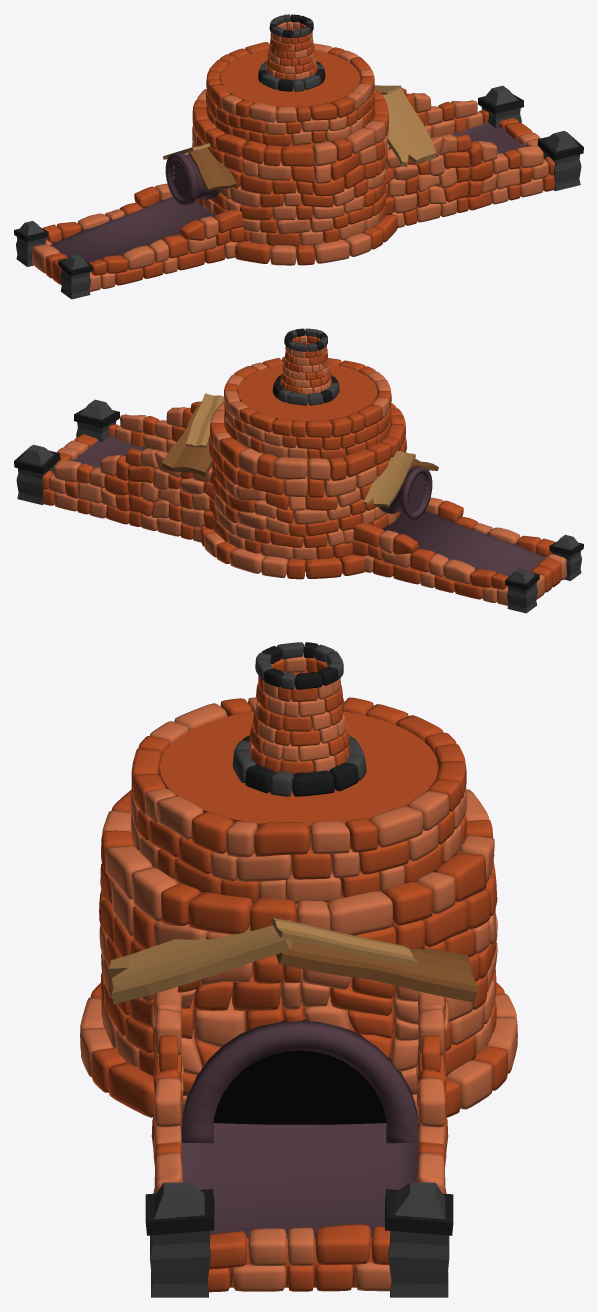
File: potatoContainer.fbx
3 views of the same model, one above another, from view 1: azimuth 30°, elevation 25°; view 2: azimuth 150°, elevation 25°; view 3: azimuth 270°, elevation 25° (orthographic). The views are drawn at different scales.
Parts seen in each view (by area): view 1: Tower_Center, ContainerBrick_Front, Tower_Top, Cube.022, Tower_Base, Container_Back, Chimney, Tower-Bottom, Pillar_Front, WoodTop_Front, Pillar_Back, WoodTop_Back (+4 smaller); view 2: Tower_Center, ContainerBrick_Front, Tower_Top, Cube.022, Container_Back, Tower_Base, Chimney, Tower-Bottom, Pillar_Front, WoodTop_Front, Pillar_Back, WoodTop_Back (+4 smaller); view 3: ContainerBrick_Front, Tower_Center, Tower_Top, Container_Front, Tower_Base, WoodTop_Front, Chimney, Pillar_Front, Pipe_front, Void_Front, Tower-Bottom.
Part boxes in pixels (x1,y1,x2,y2): Tower_Center: [192, 89, 389, 246]; ContainerBrick_Front: [383, 88, 555, 228]; Tower_Top: [206, 42, 375, 146]; Cube.022: [42, 183, 244, 291]; Tower_Base: [221, 29, 374, 257]; Container_Back: [50, 197, 216, 262]; Chimney: [258, 14, 325, 91]; Tower-Bottom: [235, 213, 398, 265]; Pillar_Front: [478, 85, 583, 191]; WoodTop_Front: [374, 85, 435, 167]; Pillar_Back: [14, 221, 92, 299]; WoodTop_Back: [163, 143, 236, 191]; Tower_Center: [209, 402, 406, 560]; ContainerBrick_Front: [42, 401, 215, 542]; Tower_Top: [224, 357, 391, 459]; Cube.022: [352, 497, 555, 605]; Container_Back: [381, 511, 545, 576]; Tower_Base: [238, 341, 377, 571]; Chimney: [272, 328, 339, 405]; Tower-Bottom: [200, 526, 364, 579]; Pillar_Front: [14, 399, 119, 504]; WoodTop_Front: [162, 393, 224, 476]; Pillar_Back: [505, 534, 583, 613]; WoodTop_Back: [363, 450, 438, 507]; ContainerBrick_Front: [151, 949, 448, 1292]; Tower_Center: [99, 789, 497, 1075]; Tower_Top: [130, 697, 467, 903]; Container_Front: [181, 1123, 418, 1287]; Tower_Base: [131, 672, 460, 1067]; WoodTop_Front: [109, 918, 478, 1004]; Chimney: [232, 642, 366, 796]; Pillar_Front: [145, 1182, 453, 1297]; Pipe_front: [181, 1019, 418, 1143]; Void_Front: [213, 1050, 386, 1124]; Tower-Bottom: [80, 982, 517, 1117].
Bounding box in the file's own units: 1424 × 534 × 537.
